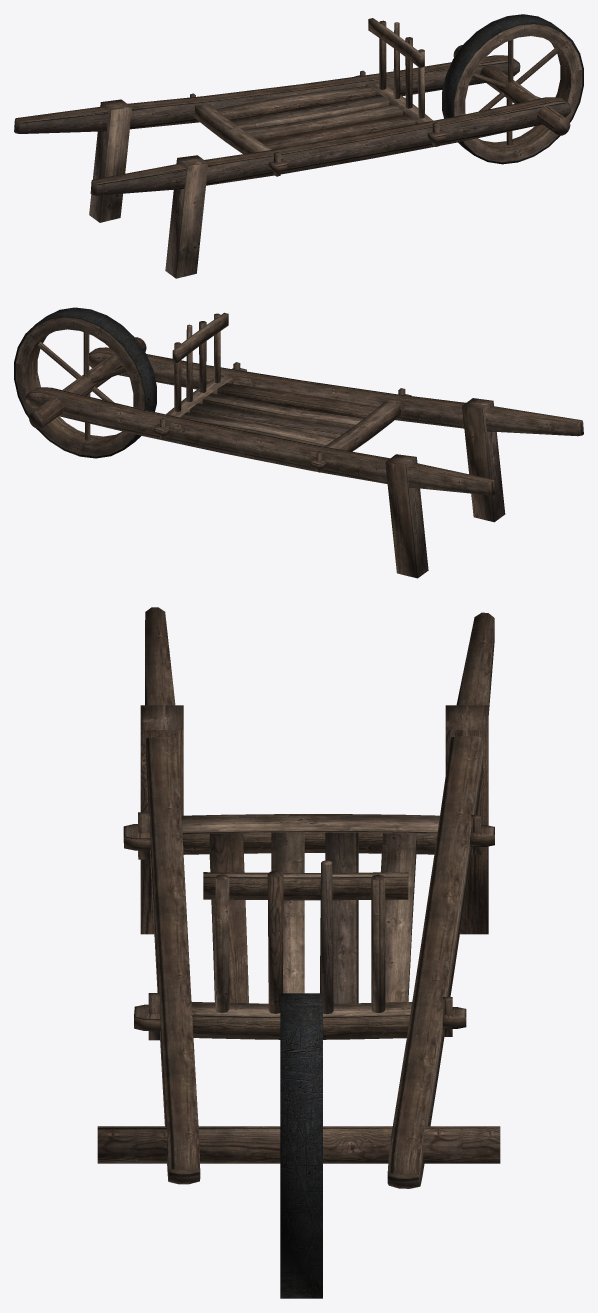
File: barrow2.fbx
3 views of the same model, one above another, from view 1: azimuth 30°, elevation 25°; view 2: azimuth 150°, elevation 25°; view 3: azimuth 270°, elevation 25° (orthographic). The views are drawn at different scales.
Visible parts, largest first — view 1: Cube, Cylinder_001; view 2: Cube, Cylinder_001; view 3: Cube, Cylinder_001.
Part boxes in pixels (box(x1,y1,x2,y2)): Cube: box(14, 18, 571, 278); Cylinder_001: box(442, 14, 583, 164); Cube: box(25, 312, 583, 578); Cylinder_001: box(14, 307, 156, 458); Cube: box(97, 607, 500, 1188); Cylinder_001: box(280, 993, 322, 1298).
Size of the model in its own units: 12.28 by 3.53 by 4.09.
